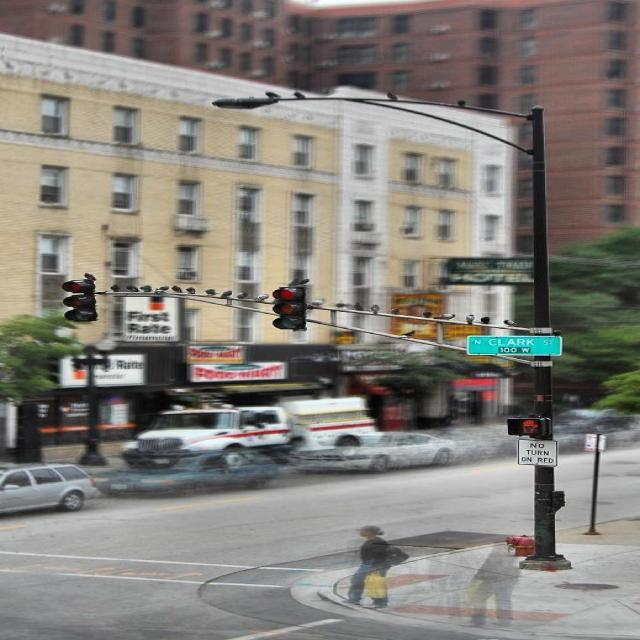traffic light: (62, 276, 99, 328), (273, 282, 308, 328)
